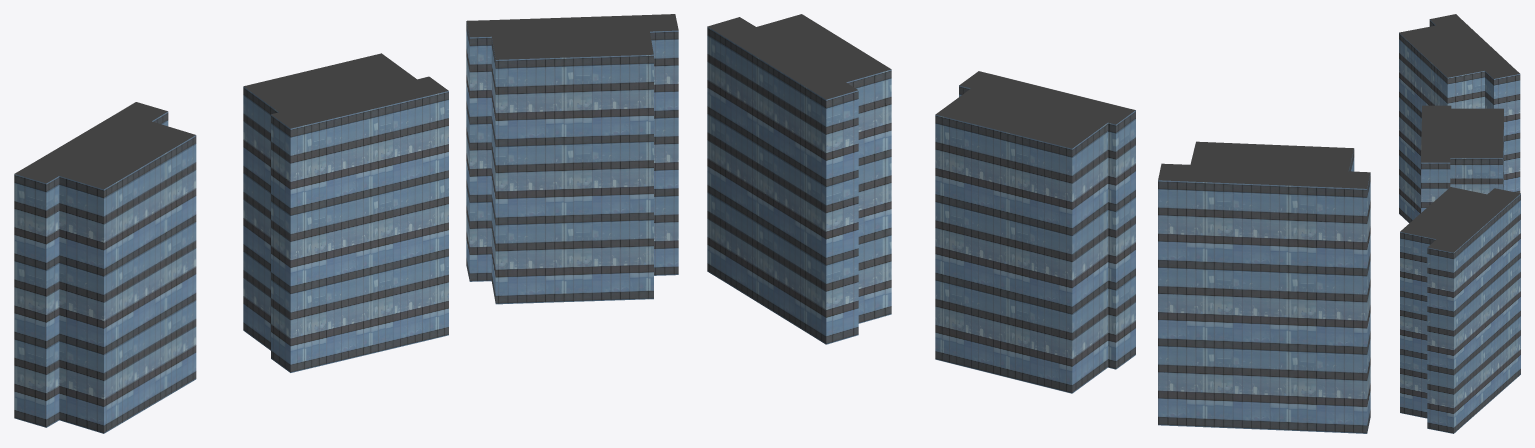
The model's file is builder_21.FBX.
3 renders of one model, left to right at view 1: azimuth 30°, elevation 25°; view 2: azimuth 150°, elevation 25°; view 3: azimuth 270°, elevation 25°, orthographic. The views are drawn at different scales.
Parts seen in each view (by area): view 1: builder_21; view 2: builder_21; view 3: builder_21.
Boxes of the visible parts, x1,y1,x2,y2 form: builder_21: (14, 14, 678, 433); builder_21: (707, 14, 1370, 433); builder_21: (1399, 14, 1520, 433).
Size of the model in its own units: 141204 by 50000 by 30487.
